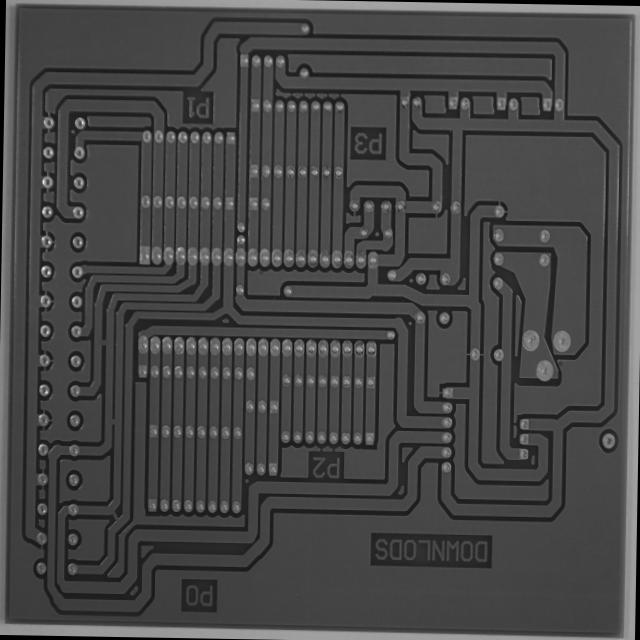short: (101, 497, 126, 527), (101, 407, 122, 437), (92, 329, 114, 352)
